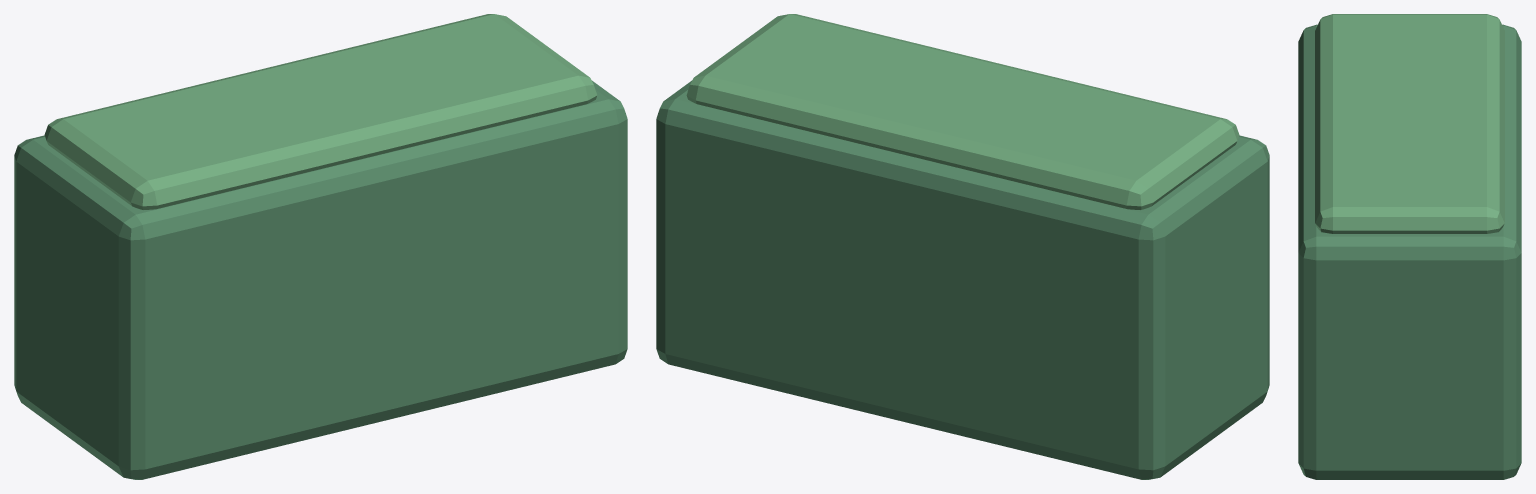
The model's file is SM_Kurpark_Hedge.fbx.
3 renders of one model, left to right at view 1: azimuth 30°, elevation 25°; view 2: azimuth 150°, elevation 25°; view 3: azimuth 270°, elevation 25°, orthographic. The views are drawn at different scales.
Parts seen in each view (by area): view 1: SM_Kurpark_Hedge; view 2: SM_Kurpark_Hedge; view 3: SM_Kurpark_Hedge.
Part boxes in pixels (x1,y1,x2,y2): SM_Kurpark_Hedge: (14,14,627,479); SM_Kurpark_Hedge: (656,14,1269,479); SM_Kurpark_Hedge: (1298,14,1521,479).
Size of the model in its own units: 2.4 by 1.3 by 1.
